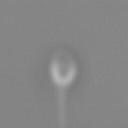normal: (47, 87, 78, 128)
